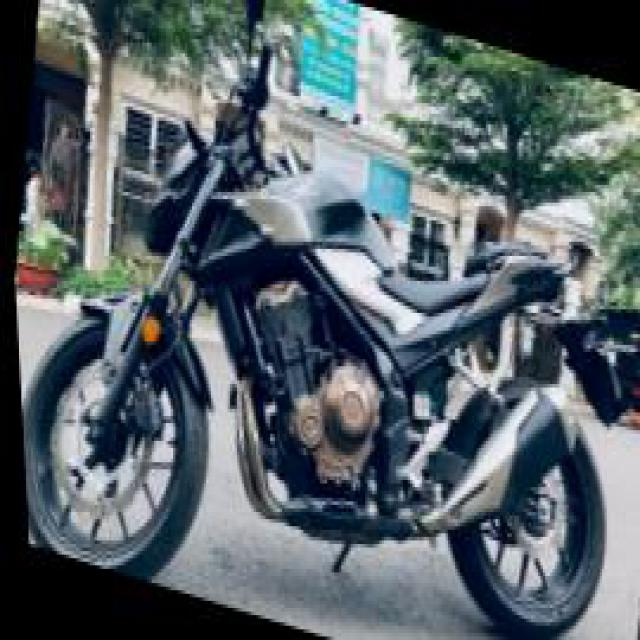CB500F: (2, 71, 638, 639)
